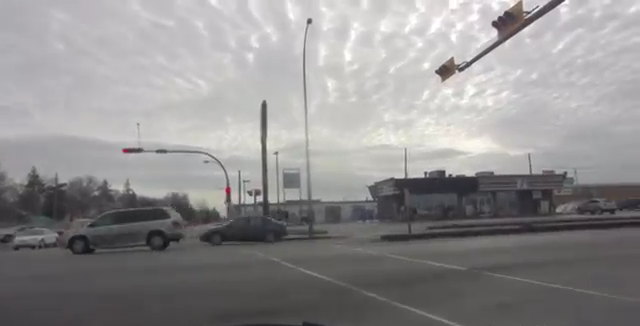car: (64, 206, 185, 255), (197, 214, 289, 245), (12, 227, 59, 250), (575, 196, 618, 215)
